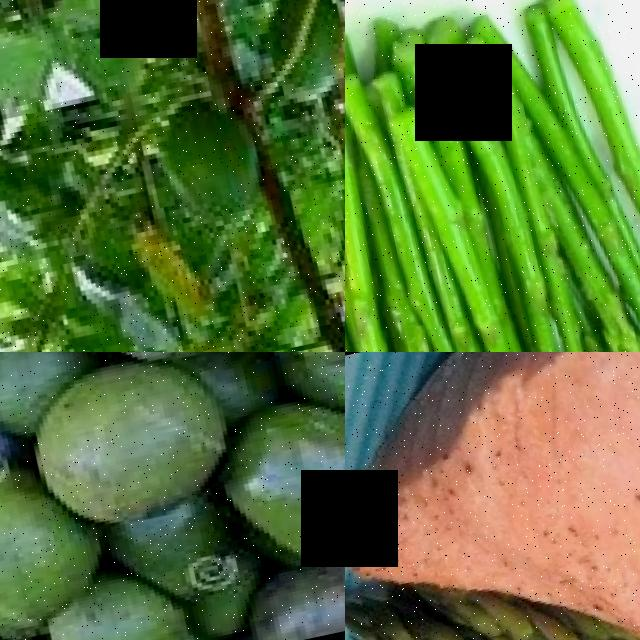asparagus: (481, 118, 640, 352), (423, 136, 570, 352), (548, 31, 640, 352), (345, 68, 441, 352), (358, 156, 492, 352)
avocado: (13, 353, 261, 542), (214, 381, 345, 587), (0, 458, 144, 636), (27, 559, 177, 640), (235, 538, 345, 640)
